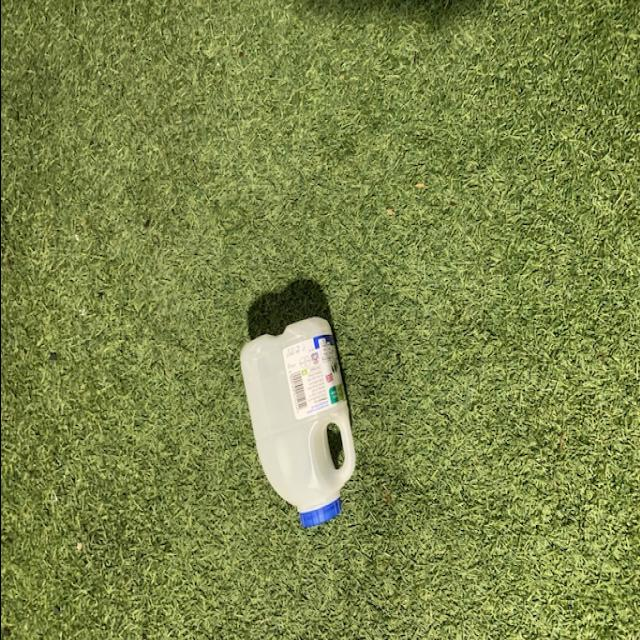HDPEM: (237, 298, 353, 534)
